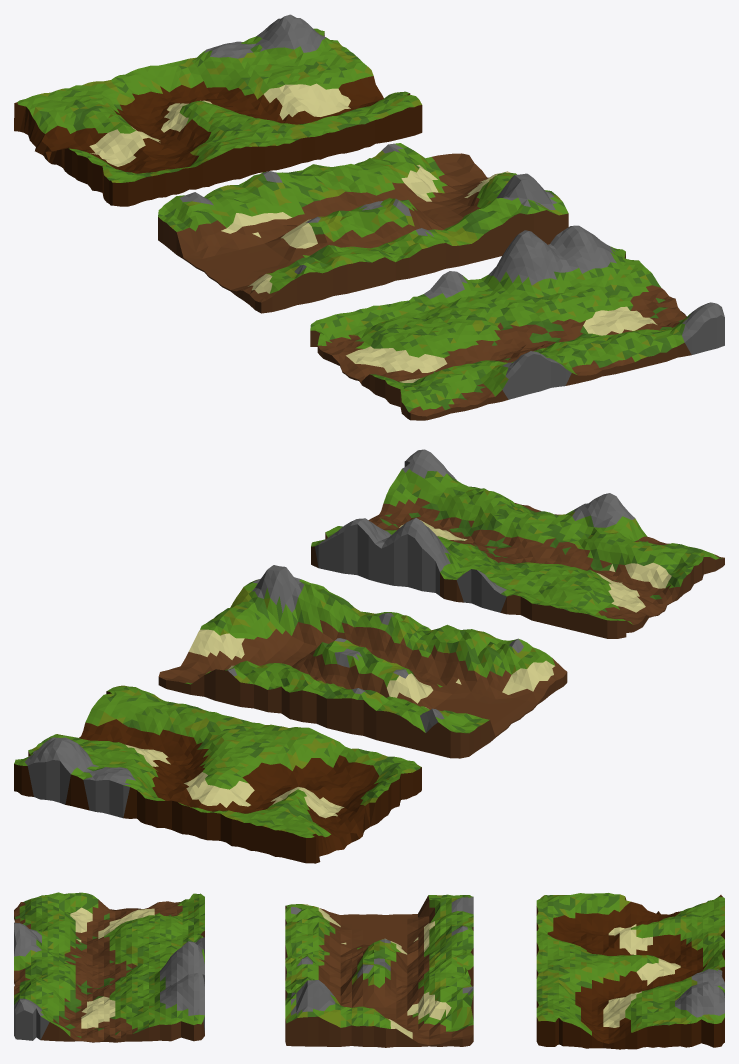
Rendered from TDLevels1to3.fbx.
The picture shows the model from 3 angles, top to bottom: view 1: azimuth 30°, elevation 25°; view 2: azimuth 150°, elevation 25°; view 3: azimuth 270°, elevation 25°; orthographic projection. The views are drawn at different scales.
Visible parts, largest first — view 1: Map.007, Map.013, BaseMap.008; view 2: BaseMap.008, Map.013, Map.007; view 3: Map.013, Map.007, BaseMap.008.
Part boxes in pixels (bbox=[...]): Map.007: bbox=[310, 225, 724, 420]; Map.013: bbox=[14, 14, 422, 206]; BaseMap.008: bbox=[158, 143, 568, 313]; BaseMap.008: bbox=[158, 565, 567, 758]; Map.013: bbox=[14, 685, 421, 863]; Map.007: bbox=[311, 449, 724, 638]; Map.013: bbox=[536, 893, 724, 1049]; Map.007: bbox=[14, 892, 204, 1042]; BaseMap.008: bbox=[285, 894, 473, 1047].
Bounding box in the file's own units: 361 × 82.02 × 801.
